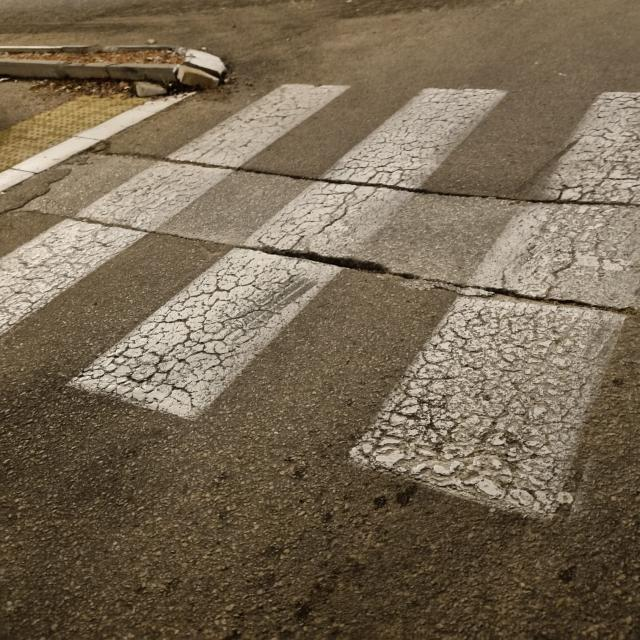medium_pothole: (260, 243, 386, 276)
minor_pothole: (482, 284, 628, 314)
